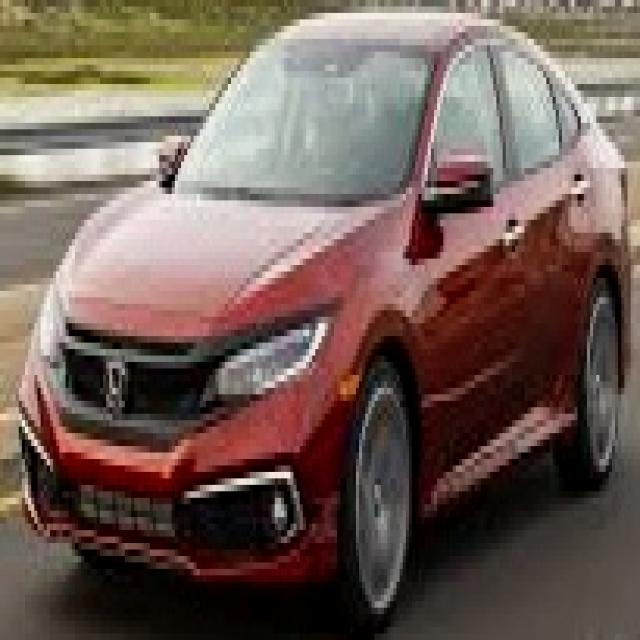maroon: (13, 9, 625, 544)
